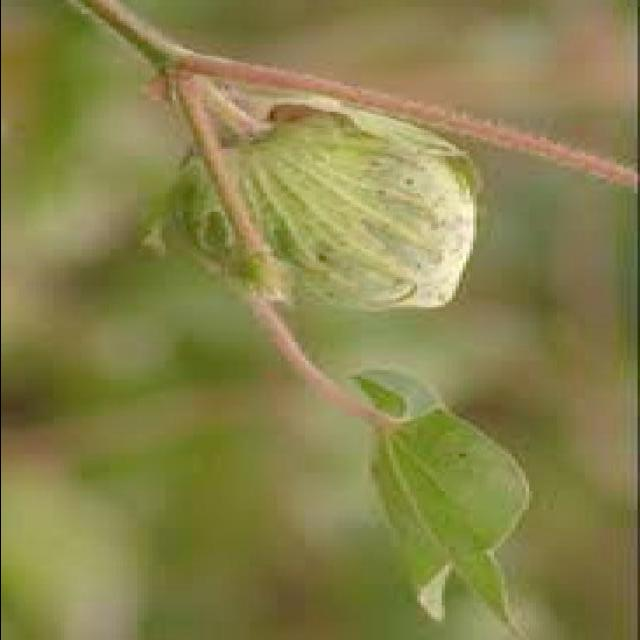Early Boll: (159, 94, 481, 314)
